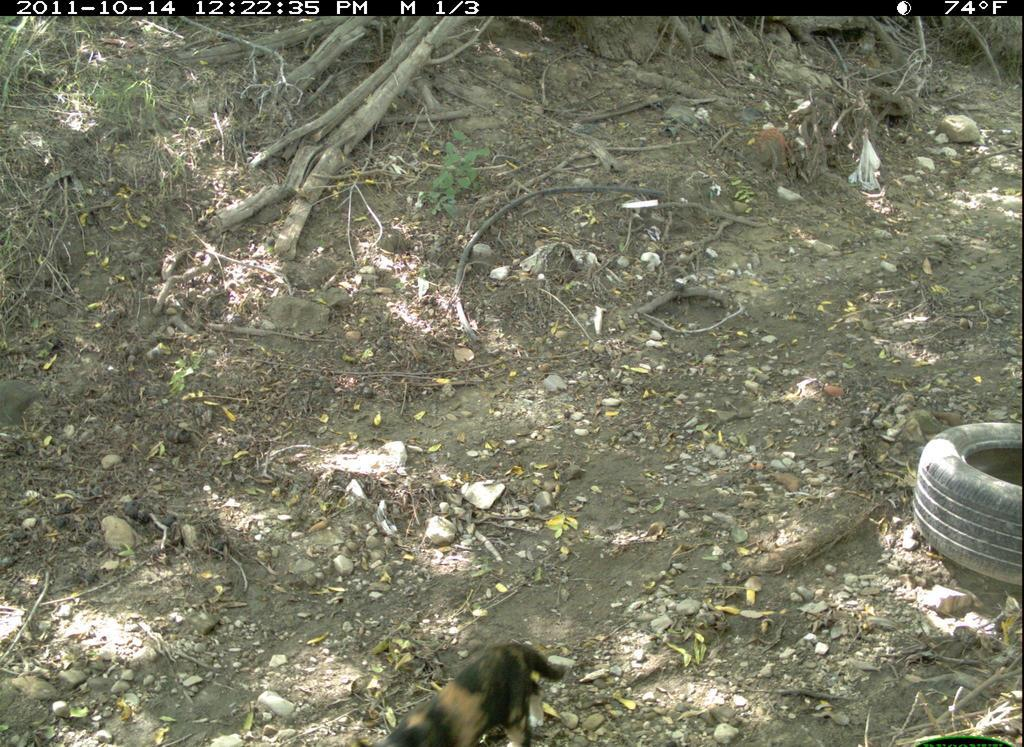cat: (349, 634, 571, 747)
